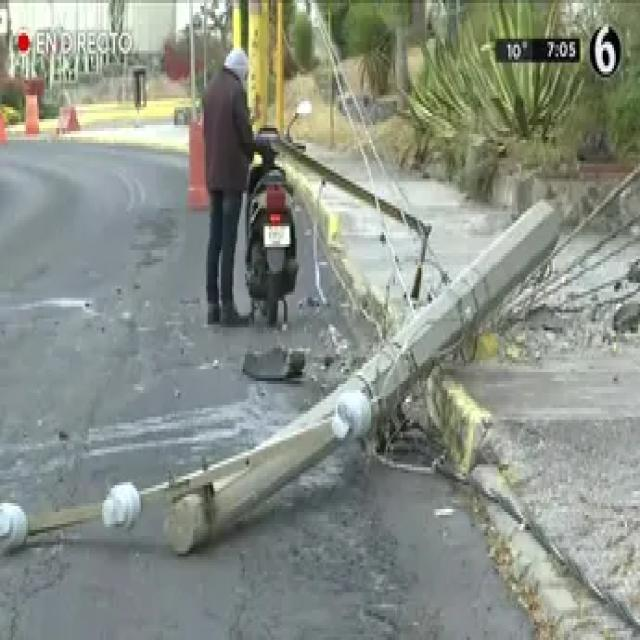Inclined Pole: (0, 195, 559, 563)
